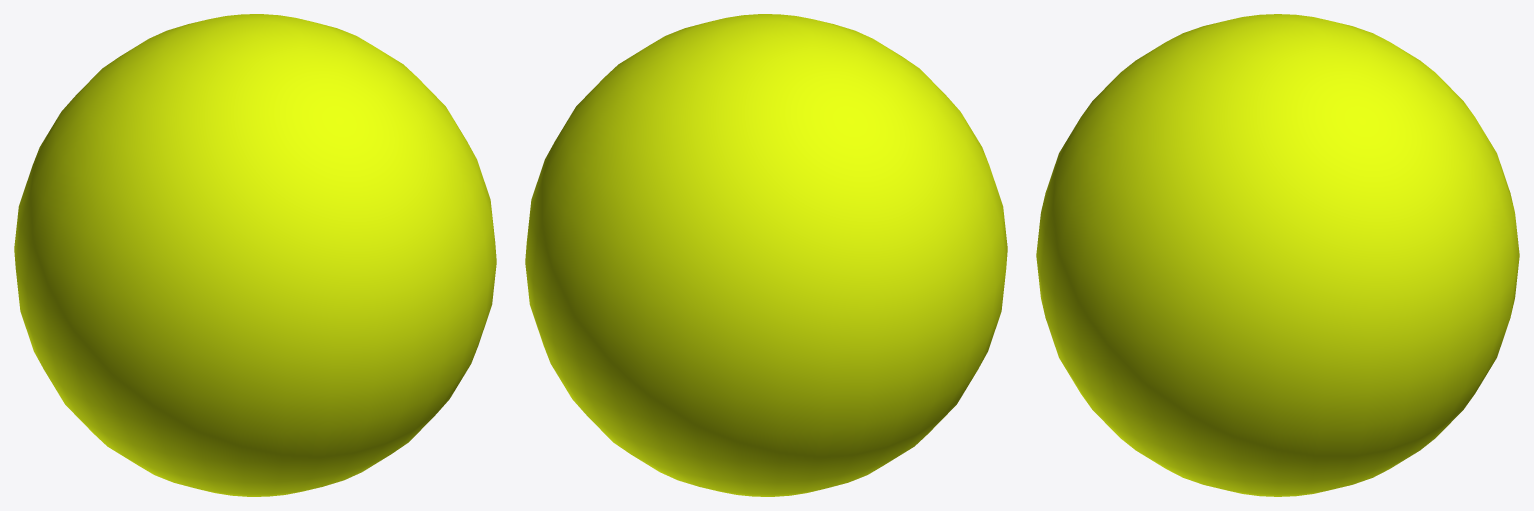
Rendered from transparency_test.glb.
3 views of the same model, side by side, from view 1: azimuth 30°, elevation 25°; view 2: azimuth 150°, elevation 25°; view 3: azimuth 270°, elevation 25° (orthographic).
Visible parts, largest first — view 1: Sphere; view 2: Sphere; view 3: Sphere.
Part boxes in pixels (<box>): Sphere: <box>14,14,496,496</box>; Sphere: <box>525,14,1007,496</box>; Sphere: <box>1036,14,1519,496</box>.
Size of the model in its own units: 3.45 by 3.45 by 3.45.
